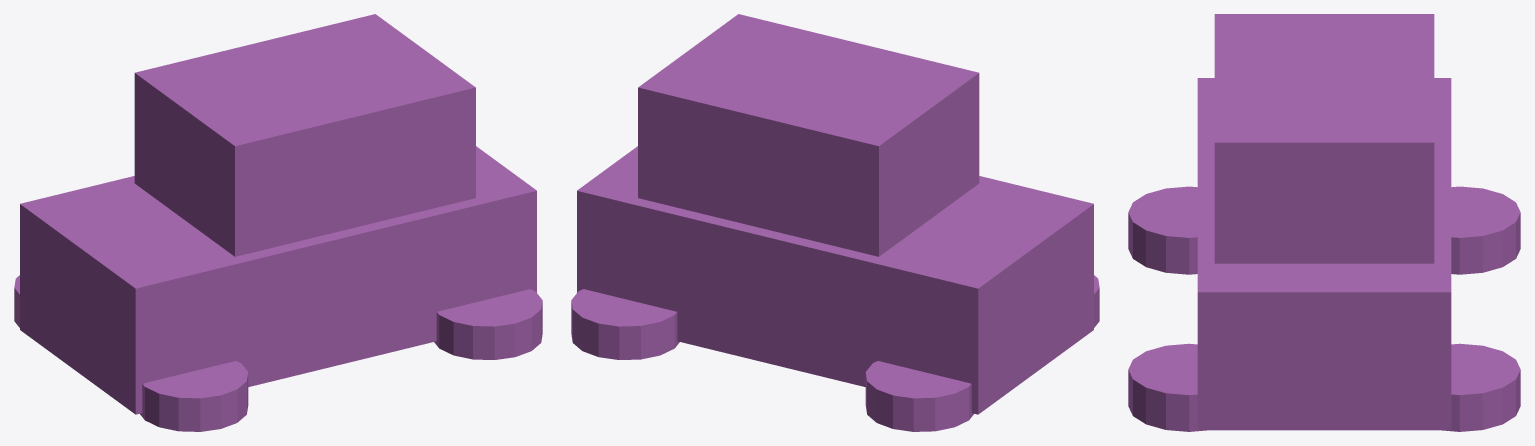
Rendered from tech_129.glb.
3 renders of one model, left to right at view 1: azimuth 30°, elevation 25°; view 2: azimuth 150°, elevation 25°; view 3: azimuth 270°, elevation 25°, orthographic. The views are drawn at different scales.
Visible parts, largest first — view 1: world; view 2: world; view 3: world.
Part boxes in pixels (x1,y1,x2,y2): world: [14, 14, 542, 431]; world: [571, 14, 1099, 431]; world: [1128, 14, 1520, 431].
Bounding box in the file's own units: 1.5 × 0.86 × 1.16.
